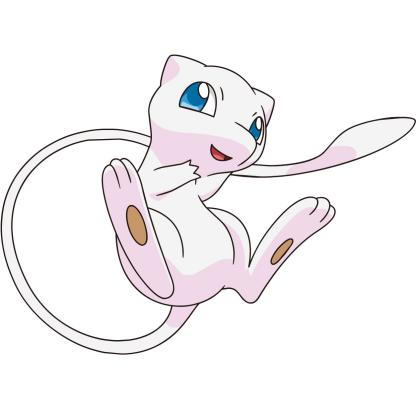Mew: (1, 38, 416, 360)
